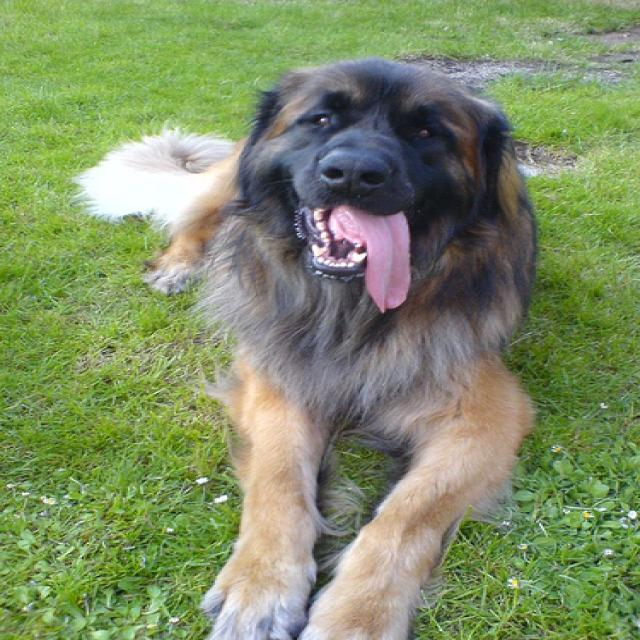dog-leonberger: (67, 50, 555, 637)
